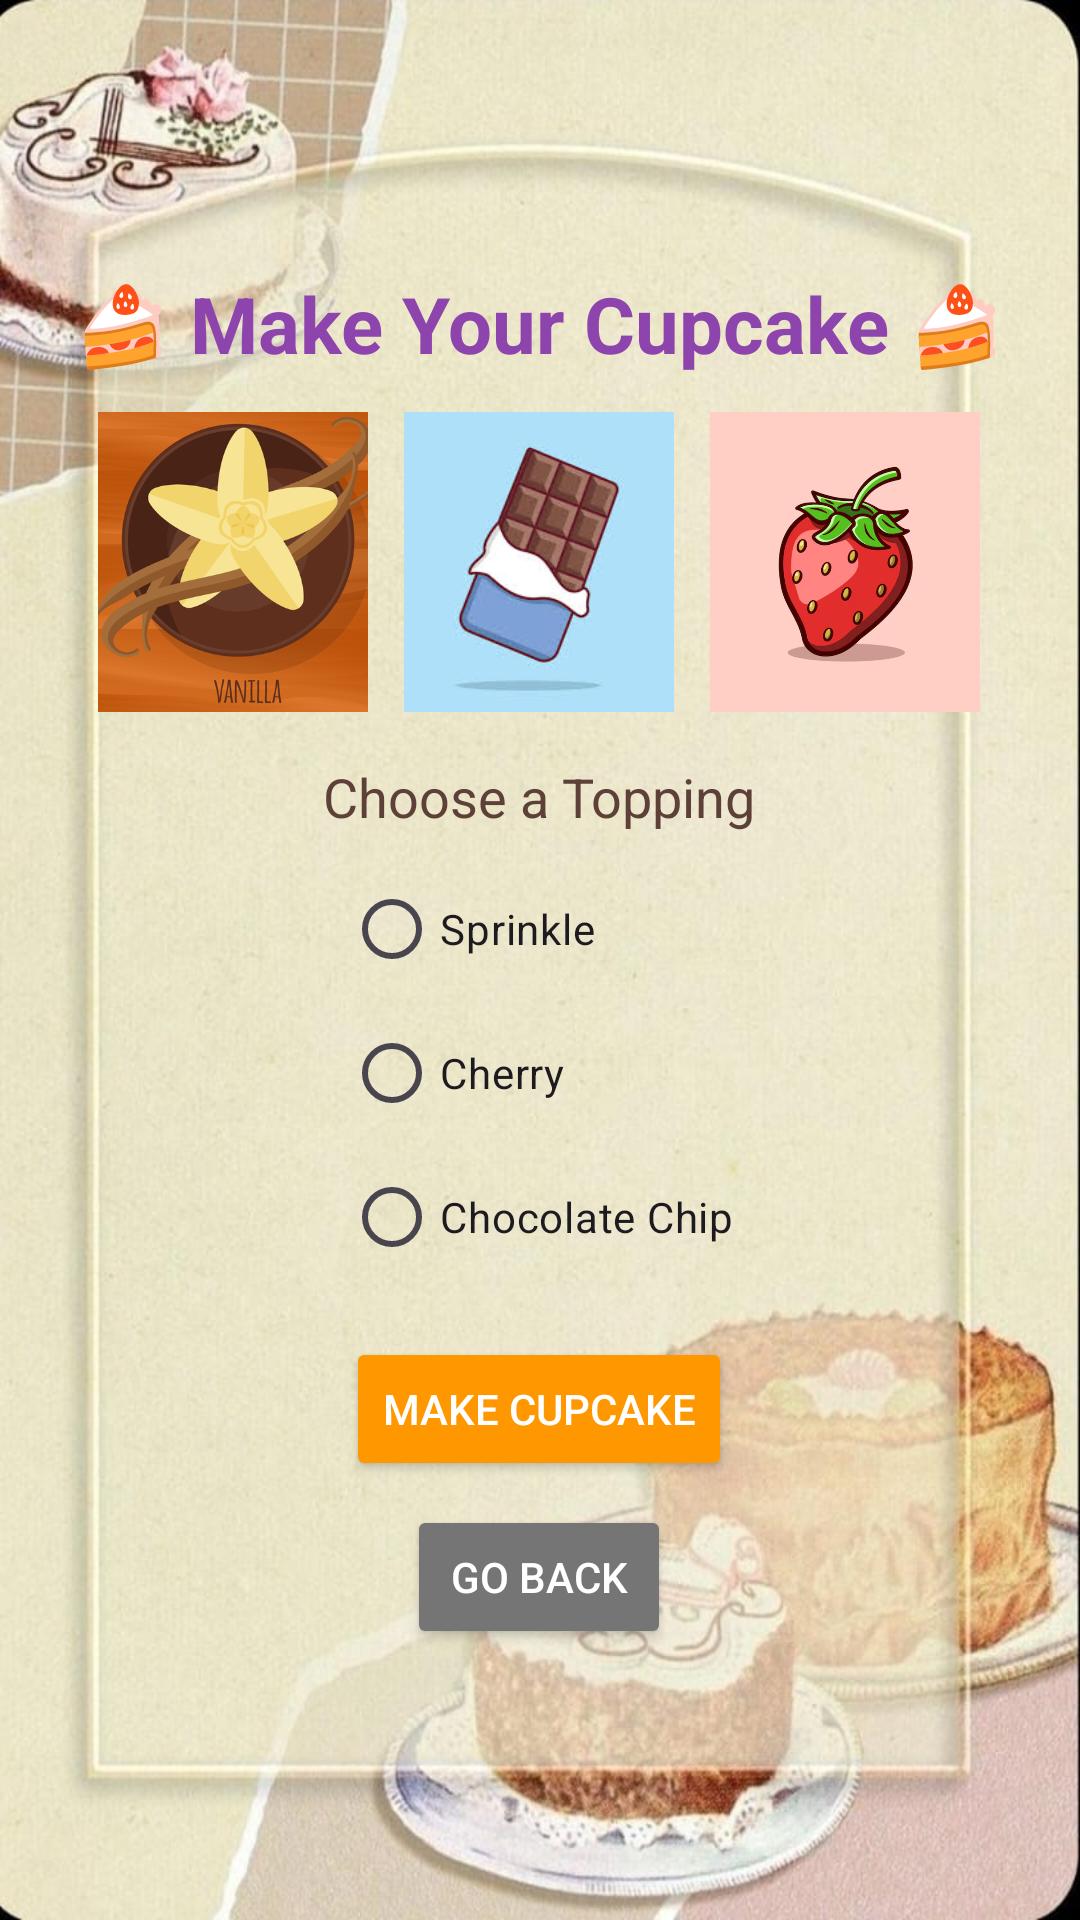

Icon bounding boxes for this 1080 × 1920 phone screenshot, format (x1, y1, x2, y2):
Chocolate: (404, 412, 674, 712)
Strawberry: (777, 466, 913, 662)
